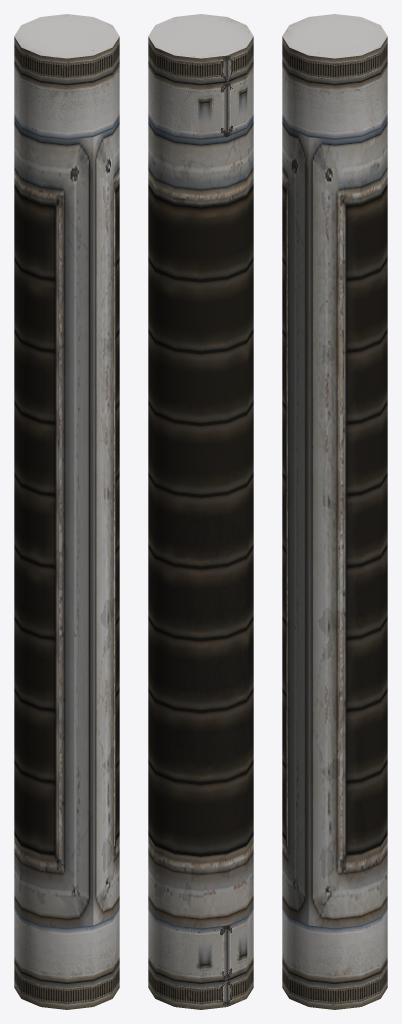
File: scifi_pipe_small_4.FBX
3 renders of one model, left to right at view 1: azimuth 30°, elevation 25°; view 2: azimuth 210°, elevation 25°; view 3: azimuth 330°, elevation 25°, orthographic.
Visible parts, largest first — view 1: Cylinder026; view 2: Cylinder026; view 3: Cylinder026.
Part boxes in pixels (x1,y1,x2,y2): Cylinder026: (14, 14, 119, 1009); Cylinder026: (148, 14, 253, 1009); Cylinder026: (282, 14, 387, 1009).
Bounding box in the file's own units: 25.53 × 254 × 25.53.
